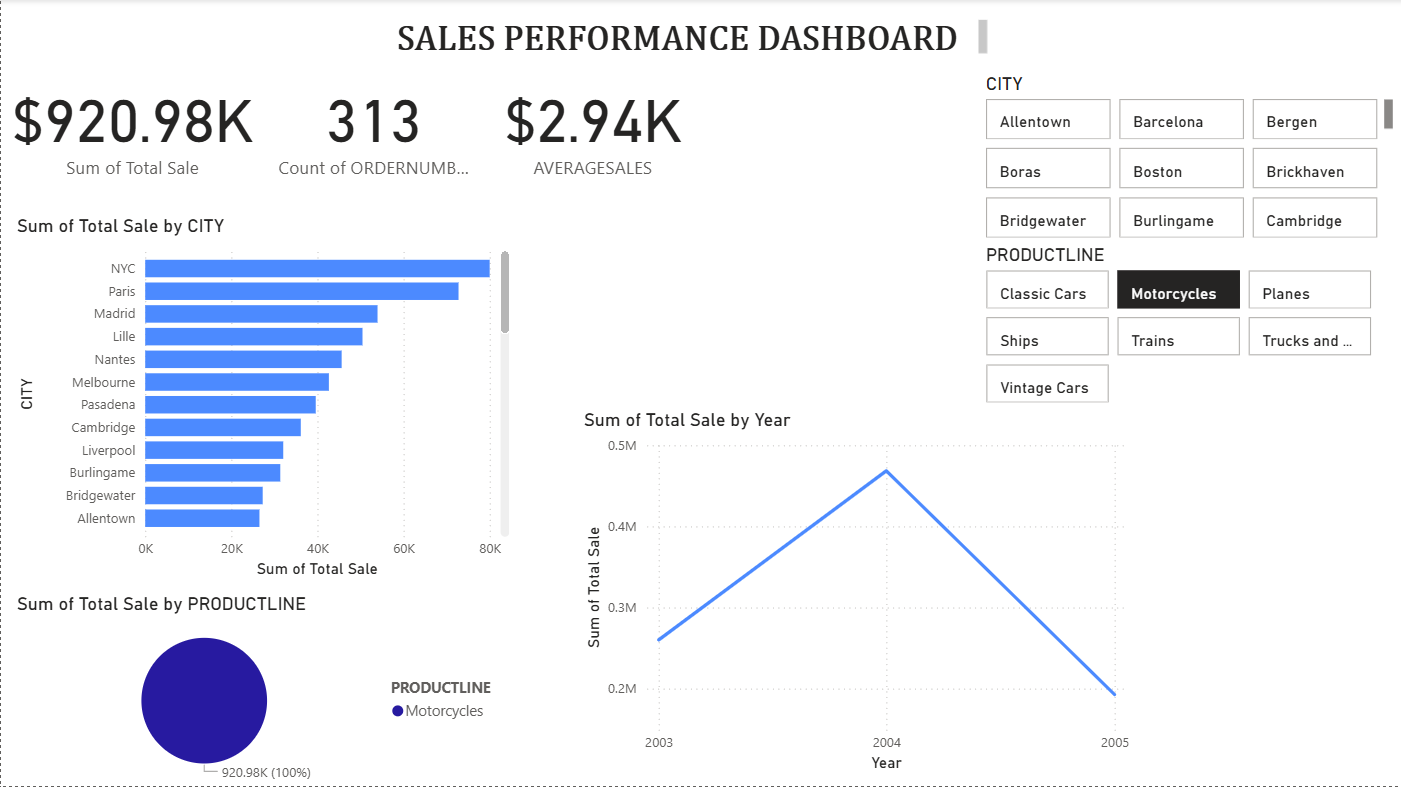

Layout of this report page (visuals, bound fields, positions):
{"tool":"powerbi","page":{"name":"Sales ","canvas":[1280,720],"ordinal":0},"visuals":[{"type":"card","fields":{"Values":["Sum(cleaned_sales_data.Total Sale)"]},"box":[0,57.9,240,114.2],"z":0},{"type":"card","fields":{"Values":["CountNonNull(cleaned_sales_data.ORDERNUMBER)"]},"box":[245,57.9,190.3,114.2],"z":1},{"type":"card","fields":{"Values":["cleaned_sales_data.AVERAGESALES"]},"box":[441.9,57.9,198.6,114.2],"z":2},{"type":"barChart","fields":{"Category":["cleaned_sales_data.CITY"],"Y":["Sum(cleaned_sales_data.Total Sale)"]},"box":[9.9,197,460.1,336],"z":3},{"type":"pieChart","fields":{"Category":["cleaned_sales_data.PRODUCTLINE"],"Y":["Sum(cleaned_sales_data.Total Sale)"]},"box":[10,543,460,177],"z":4},{"type":"lineChart","fields":{"Category":["cleaned_sales_data.ORDERDATE.Variation.Date Hierarchy.Year","cleaned_sales_data.ORDERDATE.Variation.Date Hierarchy.Quarter","cleaned_sales_data.ORDERDATE.Variation.Date Hierarchy.Month","cleaned_sales_data.ORDERDATE.Variation.Date Hierarchy.Day"],"Y":["Sum(cleaned_sales_data.Total Sale)"]},"box":[528,374.1,508.1,336],"z":5},{"type":"advancedSlicerVisual","fields":{"Values":["cleaned_sales_data.CITY"]},"box":[896.1,67.2,382.9,157.8],"z":6},{"type":"advancedSlicerVisual","fields":{"Values":["cleaned_sales_data.PRODUCTLINE"]},"box":[896.1,223.7,362.3,151],"z":7},{"type":"textbox","box":[339,13.7,568.1,43.9],"z":8}]}

Visuals, with their boxes in screenshot pixels (x1, y1, x2, y2), scaled from the page's 1280x720 canvas onto the 1401x787 screenshot:
card - Sum(cleaned_sales_data.Total Sale): crop(0, 63, 263, 188)
card - CountNonNull(cleaned_sales_data.ORDERNUMBER): crop(268, 63, 476, 188)
card - cleaned_sales_data.AVERAGESALES: crop(484, 63, 701, 188)
barChart - cleaned_sales_data.CITY x Sum(cleaned_sales_data.Total Sale): crop(11, 215, 514, 583)
pieChart - cleaned_sales_data.PRODUCTLINE x Sum(cleaned_sales_data.Total Sale): crop(11, 594, 514, 786)
lineChart - cleaned_sales_data.ORDERDATE.Variation.Date Hierarchy.Year x cleaned_sales_data.ORDERDATE.Variation.Date Hierarchy.Quarter: crop(578, 409, 1134, 776)
advancedSlicerVisual - cleaned_sales_data.CITY: crop(981, 73, 1400, 246)
advancedSlicerVisual - cleaned_sales_data.PRODUCTLINE: crop(981, 245, 1377, 410)
textbox: crop(371, 15, 993, 63)
